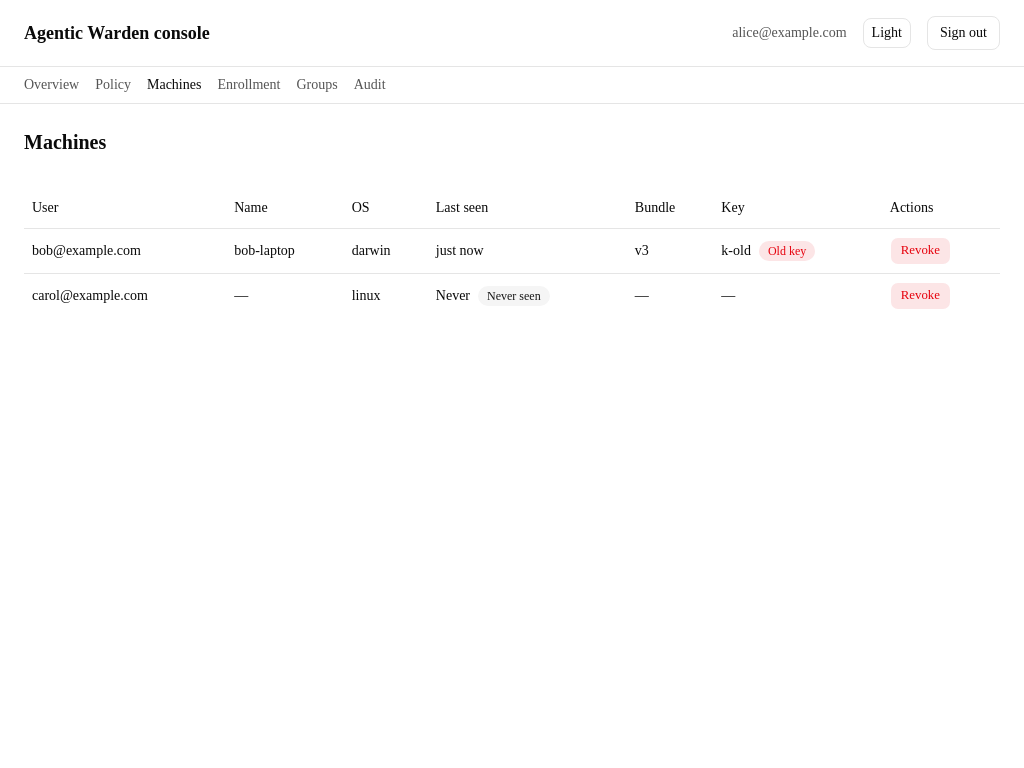
Test: revoke requires typing the machine name
Click the button "Revoke" in the row of "bob@example.com". click: (920, 250)
box: [890, 236, 951, 264]
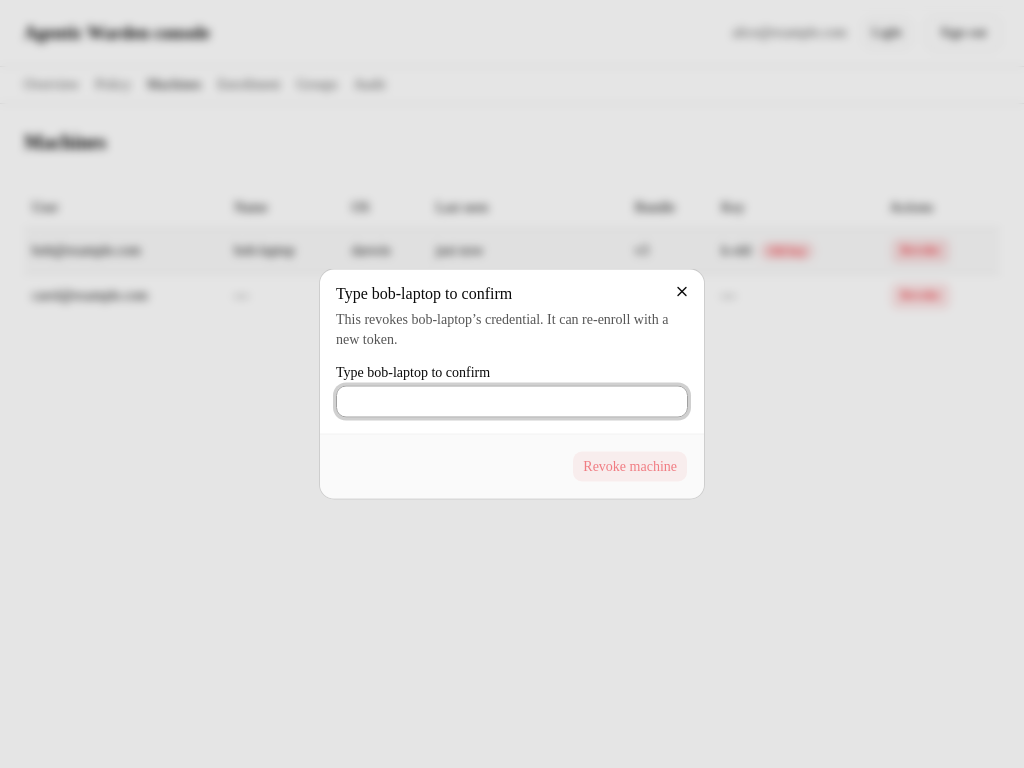
expect the button "Revoke machine" is disabled: met, box [572, 450, 688, 482]
Type "bob-laptop" into the field labelled "Type bob-laptop to confirm". click: (512, 402)
box: [336, 386, 688, 418]
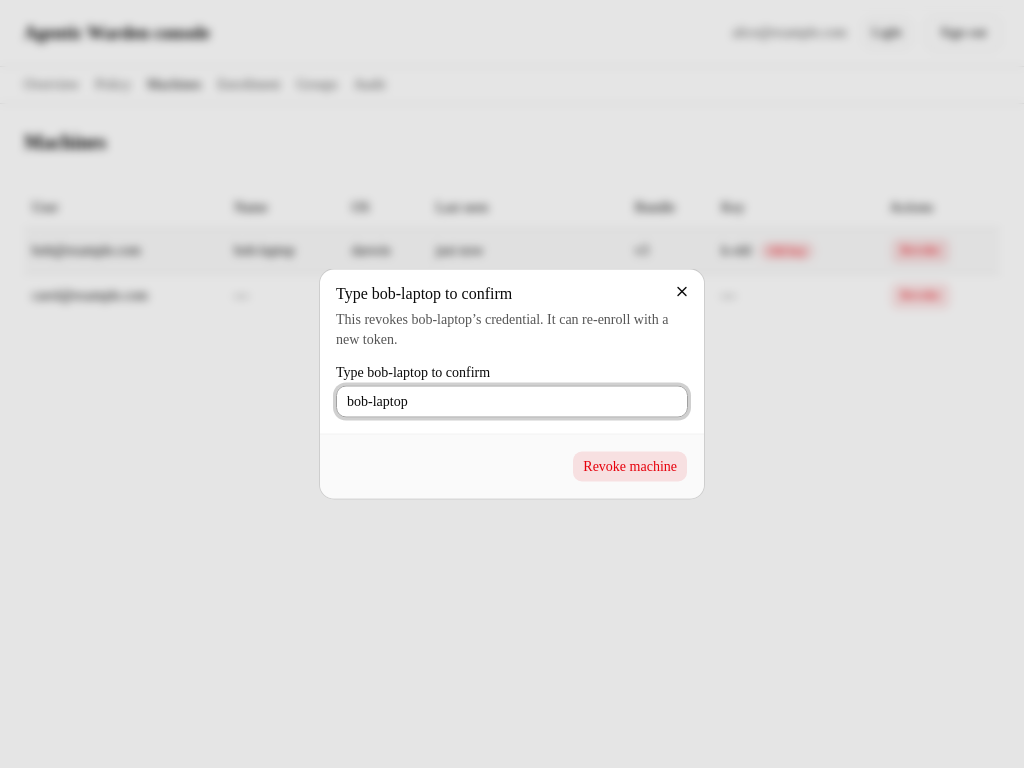
Click the button "Revoke machine". click: (630, 466)
box: [572, 450, 688, 482]
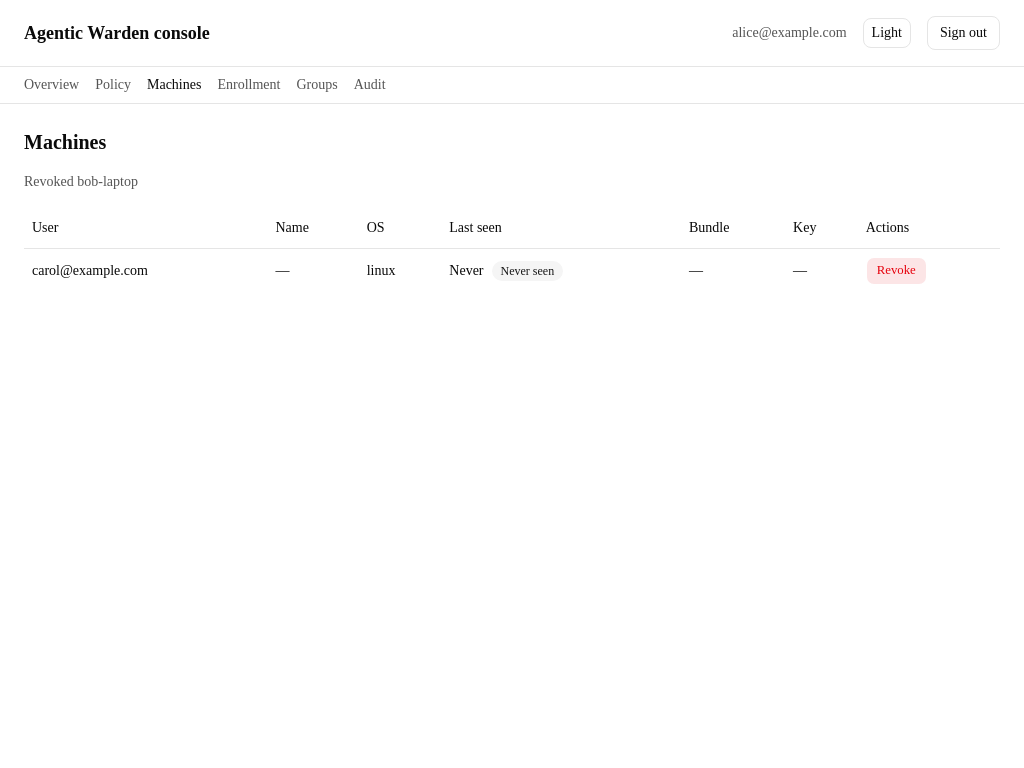
expect the text "Revoked bob-laptop" is shown: met, box [24, 174, 138, 189]
